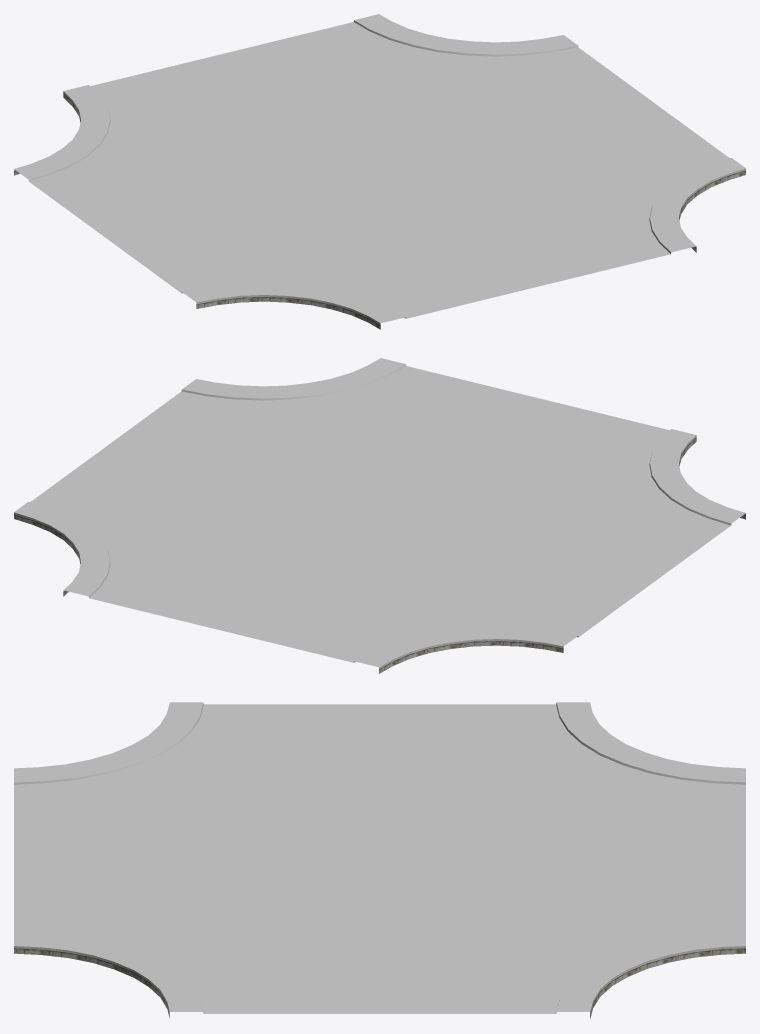
Rendered from Big_Road_Crossroads.FBX.
The picture shows the model from 3 angles, top to bottom: view 1: azimuth 30°, elevation 25°; view 2: azimuth 150°, elevation 25°; view 3: azimuth 270°, elevation 25°; orthographic projection. The views are drawn at different scales.
Parts seen in each view (by area): view 1: Big_Road_Crossroads; view 2: Big_Road_Crossroads; view 3: Big_Road_Crossroads.
Part boxes in pixels (x1=…): Big_Road_Crossroads: x1=14, y1=14, x2=745, y2=329; Big_Road_Crossroads: x1=14, y1=358, x2=745, y2=673; Big_Road_Crossroads: x1=14, y1=702, x2=745, y2=1018.
Bounding box in the file's own units: 3949 × 45.56 × 3948.
